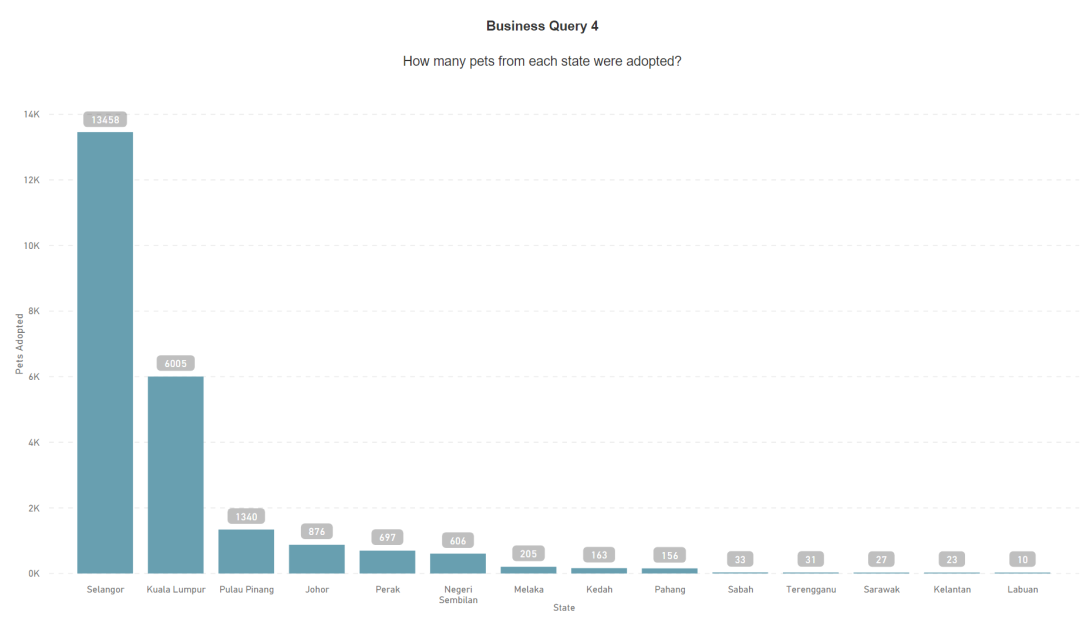

What the dashboard file says about the page in this screenshot:
{"tool":"powerbi","page":{"name":"Business Query 4","canvas":[1280,720],"ordinal":3},"visuals":[{"type":"clusteredColumnChart","fields":{"Y":["Fact Pet Adoption Speed.Quantity"],"Category":["Dim Location.State"]},"box":[70.4,106.3,1139.2,546.1],"z":0},{"type":"textbox","box":[369.4,12.4,539.9,93.9],"z":1000}]}

Visuals, with their boxes in screenshot pixels (x1, y1, x2, y2), scaled from the page's 1280x720 canvas onto the 1087x625 screenshot:
clusteredColumnChart - Fact Pet Adoption Speed.Quantity x Dim Location.State: <bbox>60, 92, 1027, 566</bbox>
textbox: <bbox>314, 11, 772, 92</bbox>
